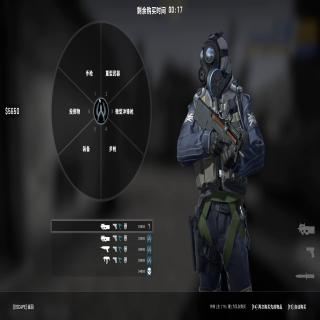CT-Body: (178, 31, 265, 288)
CT-Head: (196, 30, 228, 87)
